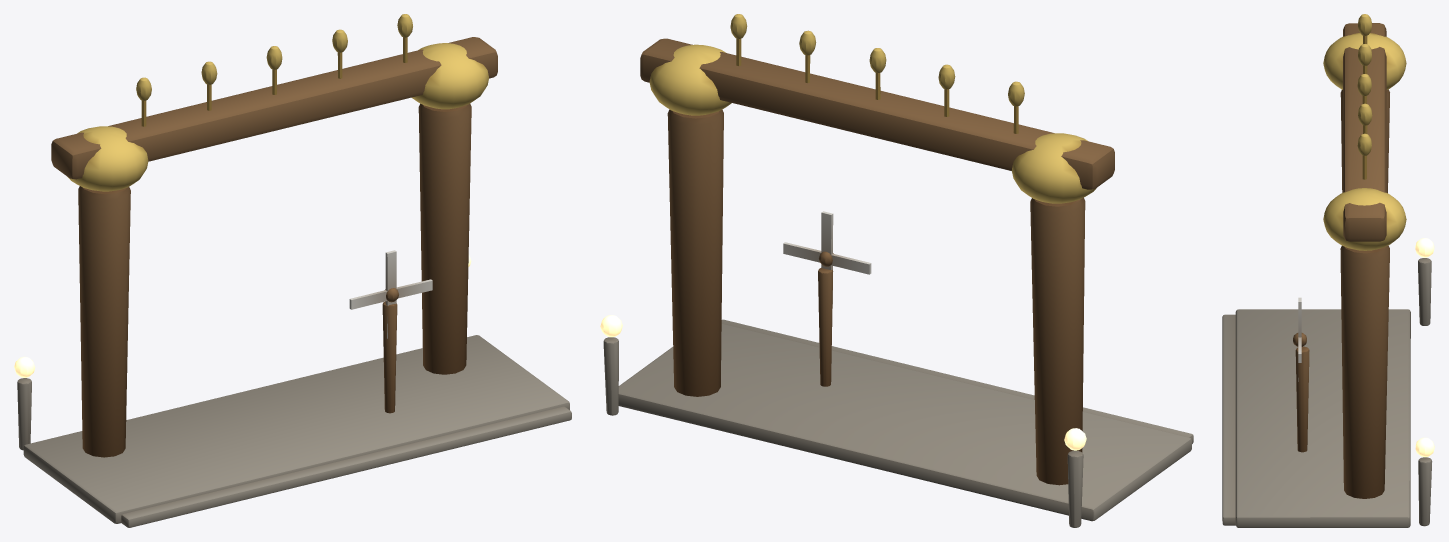
3 views of the same model, side by side, from view 1: azimuth 30°, elevation 25°; view 2: azimuth 150°, elevation 25°; view 3: azimuth 270°, elevation 25° (orthographic). The views are drawn at different scales.
Visible parts, largest first — view 1: gate_a46acac7; view 2: gate_a46acac7; view 3: gate_a46acac7.
Boxes of the visible parts, x1,y1,x2,y2 form: gate_a46acac7: (14,14,571,527); gate_a46acac7: (600,14,1193,527); gate_a46acac7: (1222,14,1434,527).
Bounding box in the file's own units: 5.94 × 4.66 × 2.55.
